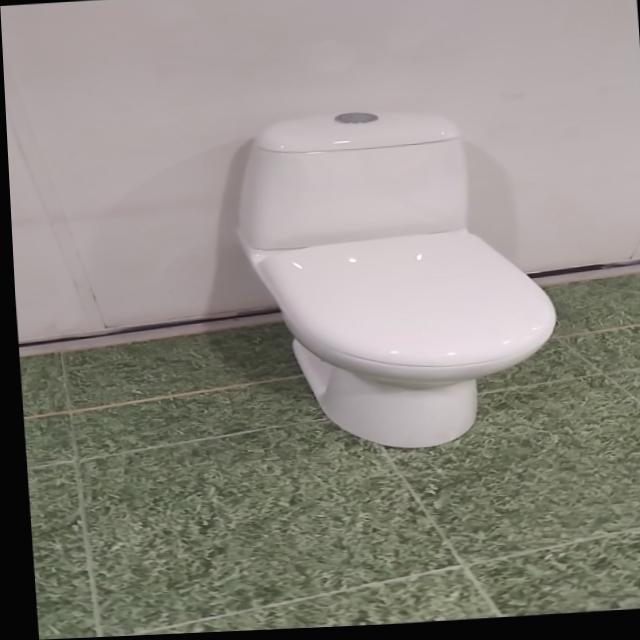toilet: (217, 95, 576, 466)
